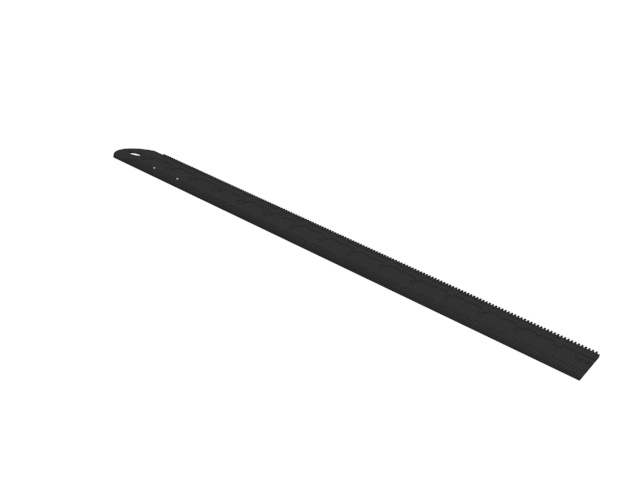ruler: (113, 145, 602, 384)
